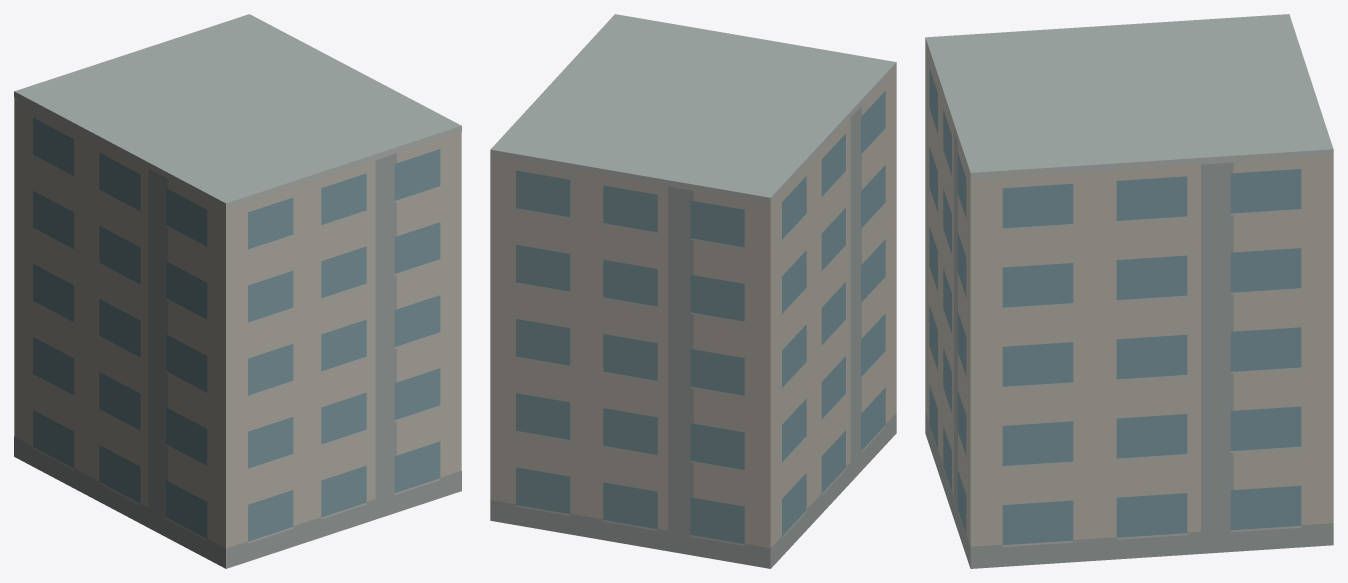
The model's file is survey-upis-32879988.glb.
The picture shows the model from 3 angles, left to right: view 1: azimuth 30°, elevation 25°; view 2: azimuth 150°, elevation 25°; view 3: azimuth 270°, elevation 25°; orthographic projection. The views are drawn at different scales.
Parts seen in each view (by area): view 1: survey-upis-32879988.tmp; view 2: survey-upis-32879988.tmp; view 3: survey-upis-32879988.tmp.
Part boxes in pixels (<box>): survey-upis-32879988.tmp: <box>14,14,461,568</box>; survey-upis-32879988.tmp: <box>490,14,896,568</box>; survey-upis-32879988.tmp: <box>925,14,1333,568</box>.
Size of the model in its own units: 12.4 by 14.4 by 13.46.
